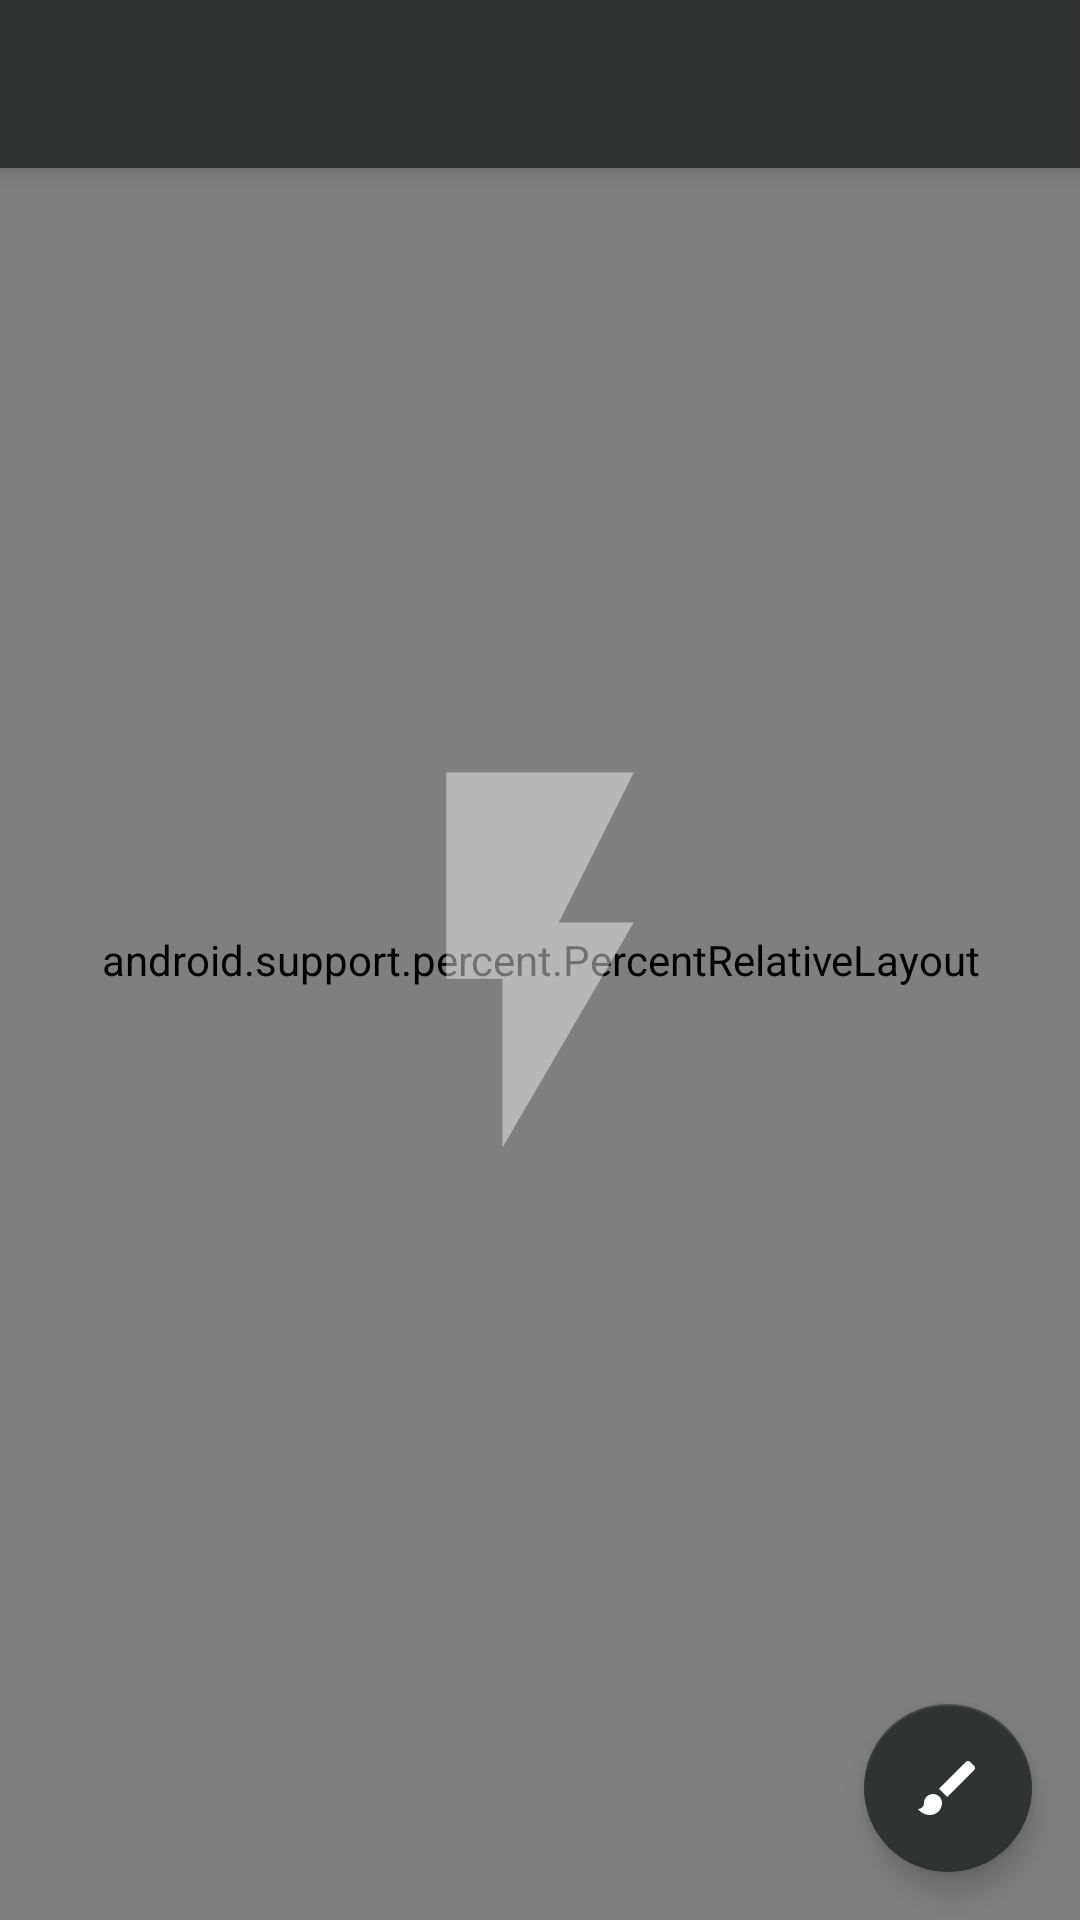

Where to tap for icons on this 1080 x 1920 app screen, as [x,y]:
brush: [948,1788]
